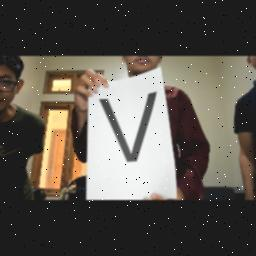v: (94, 89, 158, 167)
